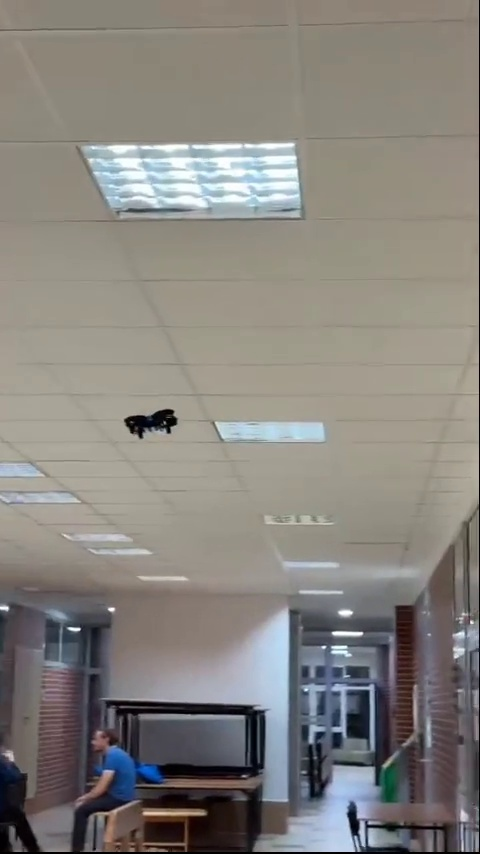drone: (122, 406, 177, 437)
no vest: (70, 728, 145, 813)
